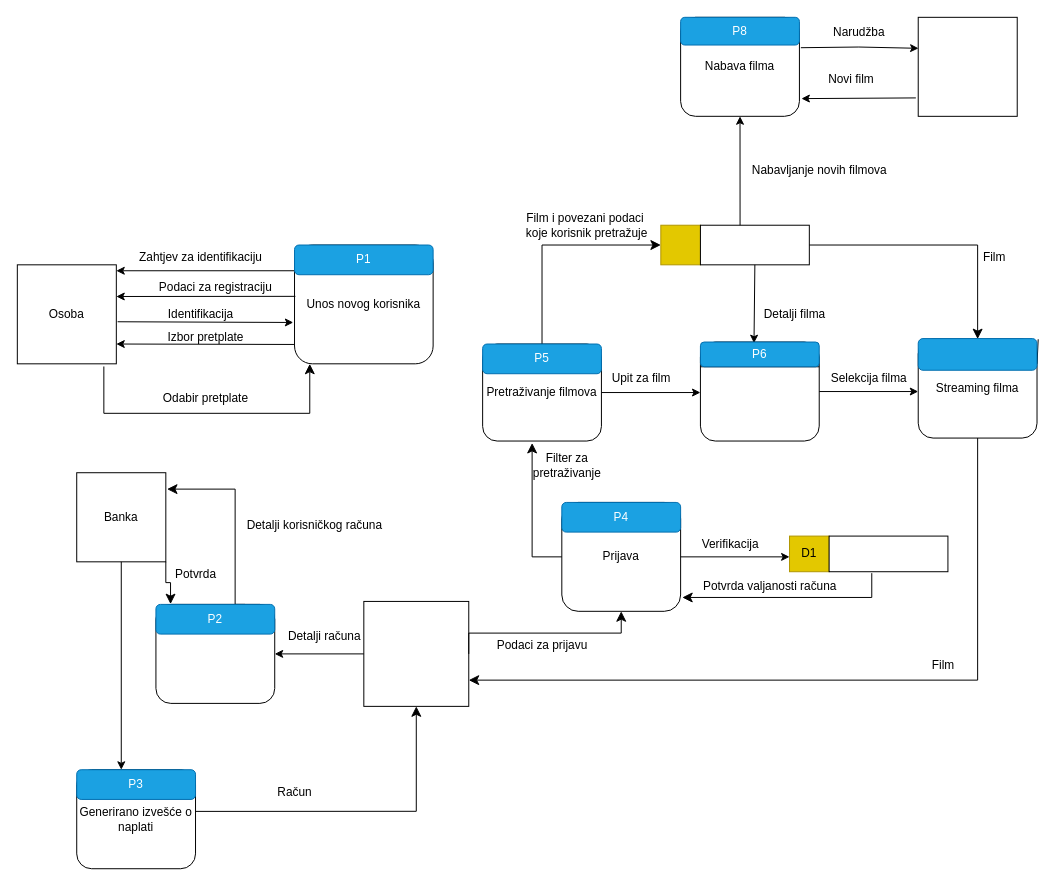
Image size: 1057x886. Some labels were removed from this diagram. The shapes that lost their labels are listed below. From the top down, each one's box as (x1, y1, x2, y2) in pixels, then its label:
(917, 16, 1017, 116): Dobavljač
(660, 224, 700, 265): D2
(699, 224, 809, 265): Baza podataka filmova
(917, 338, 1037, 370): P7
(699, 341, 819, 441): Pogled na detalje filma(glumci, redatelji, godina izlaska itd.)
(828, 535, 948, 572): Baza podataka korisnika
(155, 603, 275, 703): Plaćanje pretplate
(363, 600, 469, 706): Korisnik
